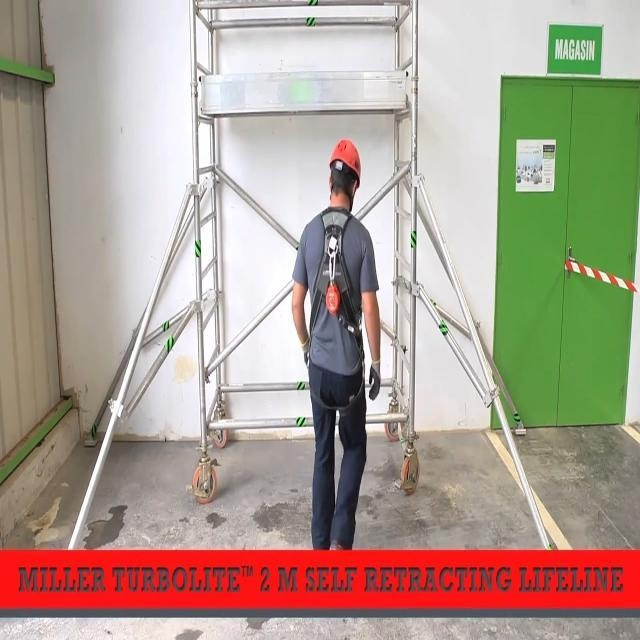Arnes_seguridad: (304, 207, 366, 416)
